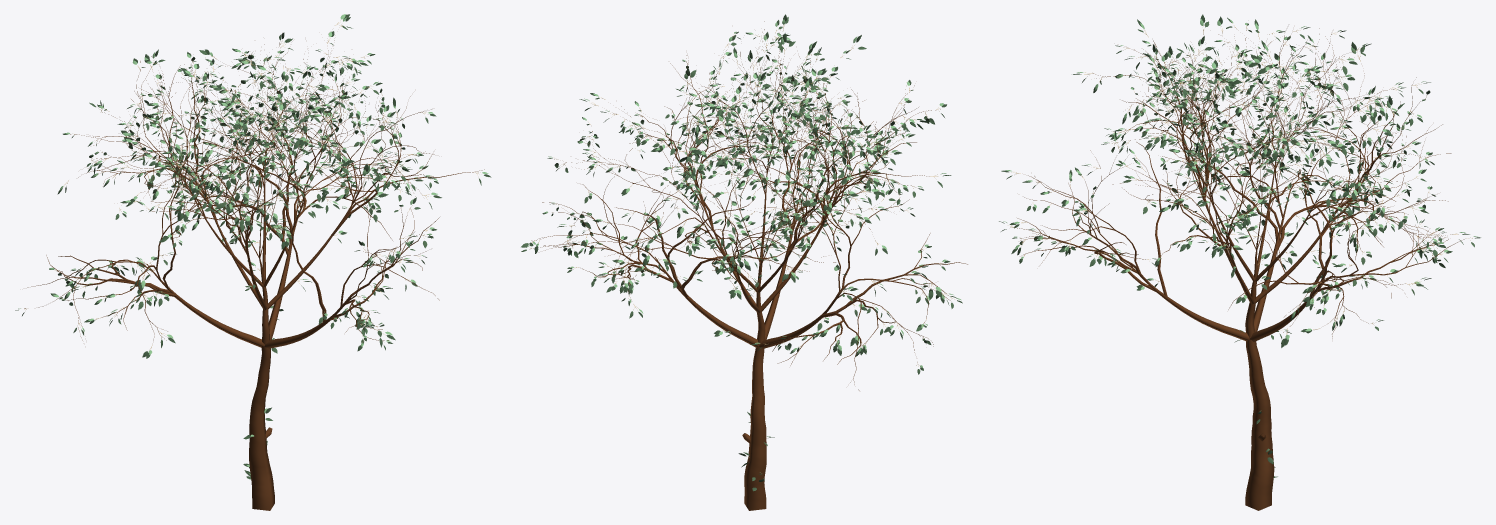
The model's file is Tree37.fbx.
3 renders of one model, left to right at view 1: azimuth 30°, elevation 25°; view 2: azimuth 150°, elevation 25°; view 3: azimuth 270°, elevation 25°, orthographic. The views are drawn at different scales.
Parts seen in each view (by area): view 1: Árbol.002; view 2: Árbol.002; view 3: Árbol.002.
Boxes of the visible parts, left/top/right/bottom form: Árbol.002: left=24, top=40, right=484, bottom=510; Árbol.002: left=531, top=21, right=967, bottom=510; Árbol.002: left=1017, top=28, right=1464, bottom=510.
Bounding box in the file's own units: 1964 × 2171 × 2008.
